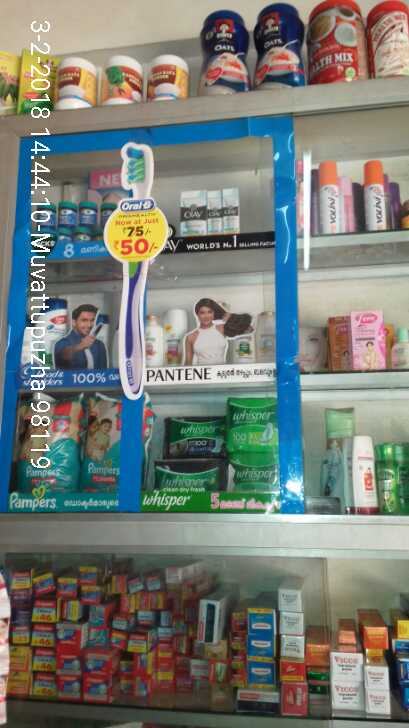vicks: (40, 197, 121, 243)
